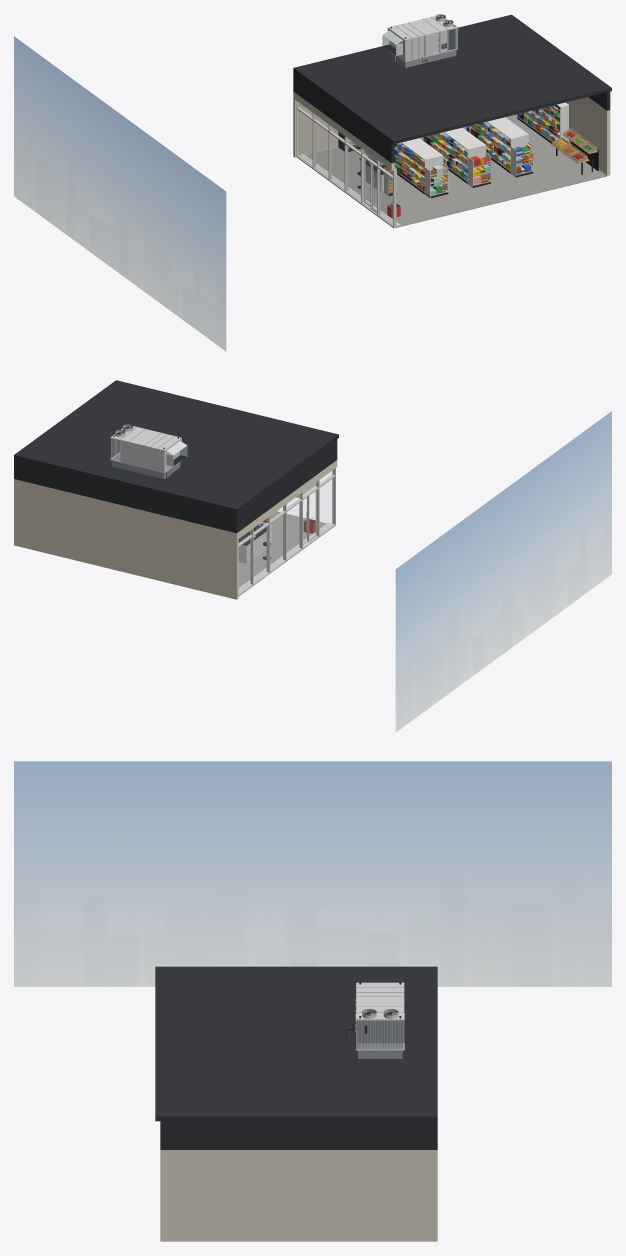
File: retail.glb
3 views of the same model, one above another, from view 1: azimuth 30°, elevation 25°; view 2: azimuth 150°, elevation 25°; view 3: azimuth 270°, elevation 25° (orthographic). The views are drawn at different scales.
Visible parts, largest first — view 1: city, slab, room, gondolas, glass, windows, wall_shelves, produce, ahu_top, ahu_base, checkout; view 2: city, slab, room, glass, windows, ahu_base, ahu_top, checkout; view 3: city, slab, room, ahu_top, ahu_base.
Part boxes in pixels (x1,y1,x2,y2): city: [14, 36, 226, 351]; slab: [293, 14, 611, 163]; room: [293, 91, 610, 227]; gondolas: [394, 117, 533, 198]; glass: [298, 103, 392, 223]; windows: [296, 101, 400, 228]; wall_shelves: [517, 102, 569, 143]; produce: [551, 128, 598, 174]; ahu_top: [388, 14, 457, 40]; ahu_base: [387, 17, 457, 65]; checkout: [357, 156, 397, 196]; city: [395, 411, 611, 732]; slab: [14, 380, 338, 533]; room: [14, 460, 337, 599]; glass: [239, 470, 333, 592]; windows: [238, 468, 335, 596]; ahu_base: [110, 427, 181, 473]; ahu_top: [110, 424, 180, 450]; checkout: [238, 516, 271, 563]; city: [14, 761, 611, 986]; slab: [155, 966, 437, 1149]; room: [160, 1150, 437, 1241]; ahu_top: [356, 982, 404, 1019]; ahu_base: [346, 982, 404, 1050].
Size of the model in its own units: 21.35 by 7.5 by 18.
Materials: 45 (6 with a texture image).
